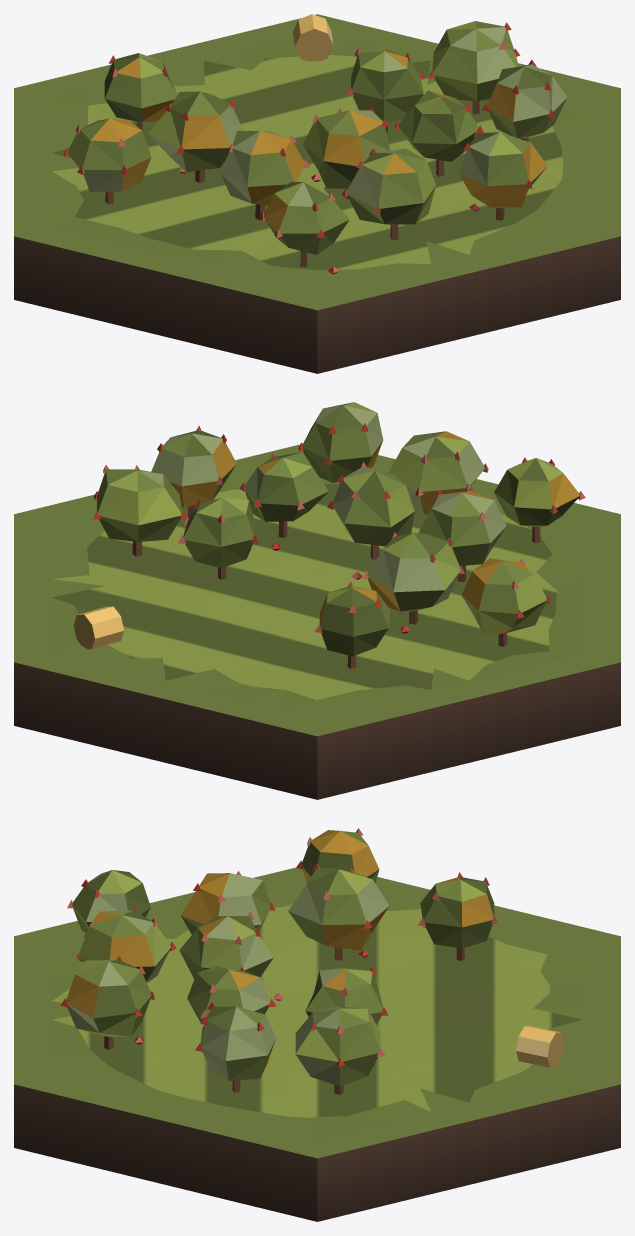
The model's file is SM_Tile_Orchard_B.fbx.
3 renders of one model, top to bottom at view 1: azimuth 30°, elevation 25°; view 2: azimuth 150°, elevation 25°; view 3: azimuth 270°, elevation 25°, orthographic.
Visible parts, largest first — view 1: SM_Tile_Orchard_B; view 2: SM_Tile_Orchard_B; view 3: SM_Tile_Orchard_B.
Part boxes in pixels (left/top/right/bottom): SM_Tile_Orchard_B: left=14, top=14, right=620, bottom=373; SM_Tile_Orchard_B: left=14, top=402, right=620, bottom=799; SM_Tile_Orchard_B: left=14, top=828, right=620, bottom=1221.
Bounding box in the file's own units: 20 × 4.81 × 17.32.
